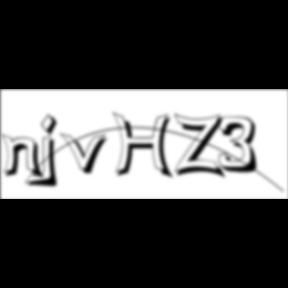3: (218, 116, 264, 176)
H: (112, 112, 178, 182)
Z: (174, 112, 230, 181)
j: (38, 113, 66, 191)
n: (1, 132, 48, 181)
v: (60, 131, 114, 177)
